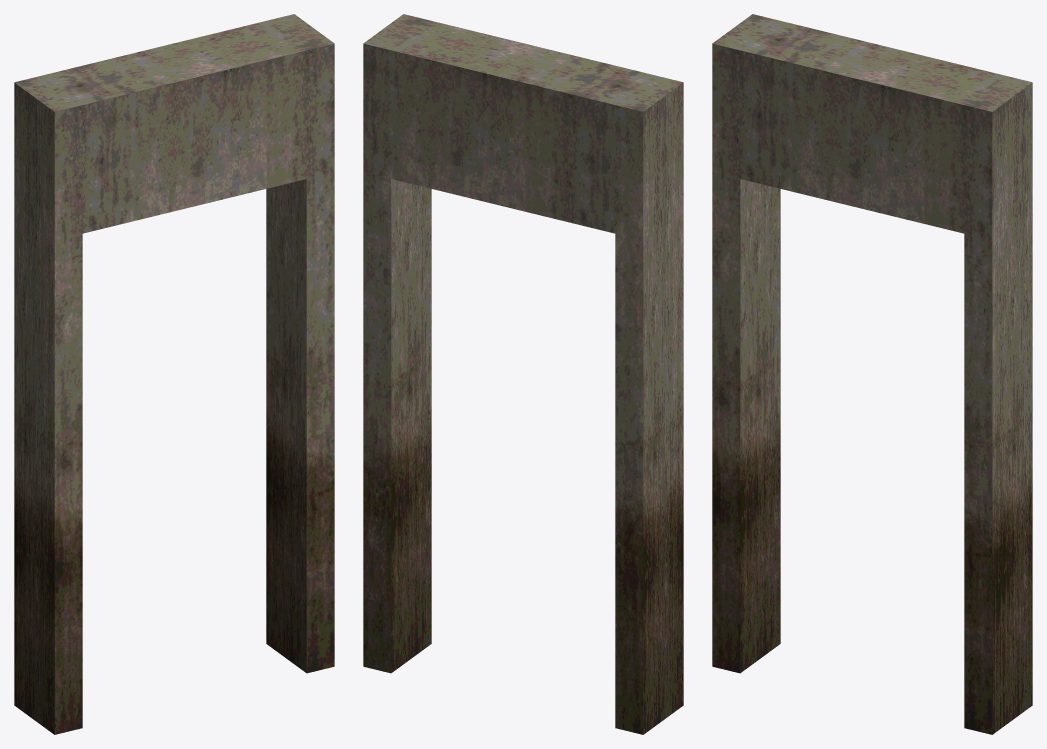
The model's file is ParedePorta.fbx.
3 views of the same model, side by side, from view 1: azimuth 30°, elevation 25°; view 2: azimuth 150°, elevation 25°; view 3: azimuth 330°, elevation 25° (orthographic).
Visible parts, largest first — view 1: Parede para Porta 2x4.25; view 2: Parede para Porta 2x4.25; view 3: Parede para Porta 2x4.25.
Boxes of the visible parts, <box> form: Parede para Porta 2x4.25: <box>14,14,334,734</box>; Parede para Porta 2x4.25: <box>363,14,683,734</box>; Parede para Porta 2x4.25: <box>712,14,1032,734</box>.
Size of the model in its own units: 200 by 425 by 50.
1 material, 1 textured.
